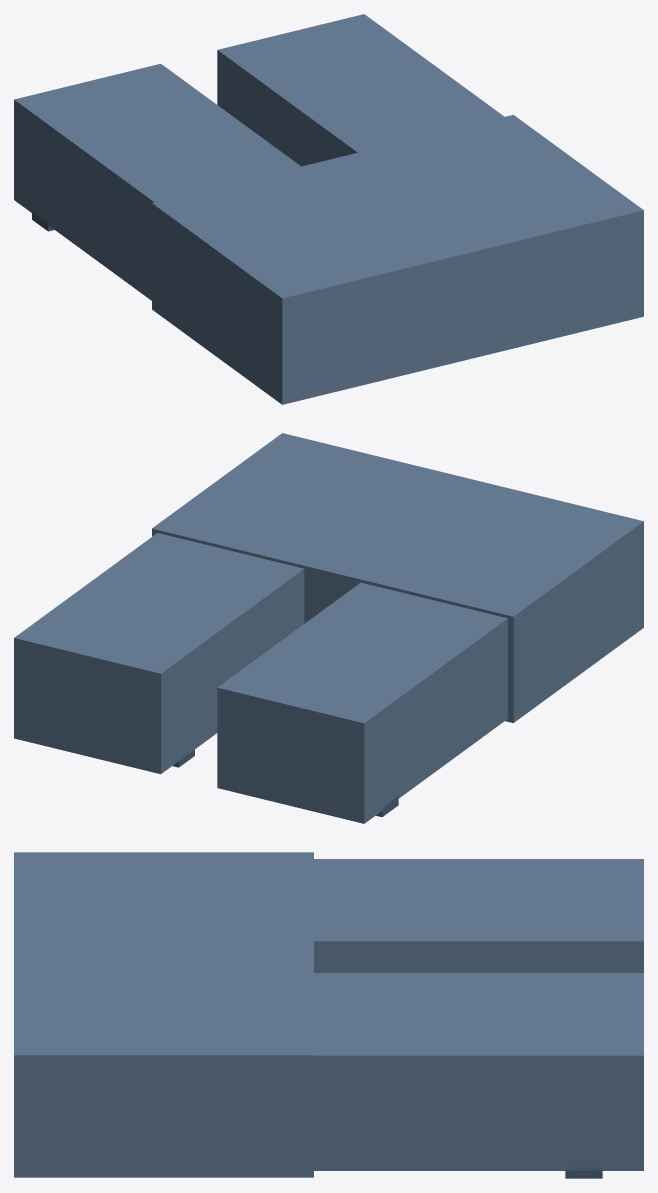
The model's file is jeans.glb.
3 renders of one model, top to bottom at view 1: azimuth 30°, elevation 25°; view 2: azimuth 150°, elevation 25°; view 3: azimuth 270°, elevation 25°, orthographic. The views are drawn at different scales.
Parts seen in each view (by area): view 1: 00_waist, 01_left_leg, 02_right_leg; view 2: 00_waist, 01_left_leg, 02_right_leg; view 3: 00_waist, 02_right_leg, 01_left_leg.
Part boxes in pixels (<box>): 00_waist: <box>152,115,643,404</box>; 01_left_leg: <box>14,63,300,300</box>; 02_right_leg: <box>217,14,504,166</box>; 00_waist: <box>152,433,643,722</box>; 01_left_leg: <box>217,582,507,823</box>; 02_right_leg: <box>14,533,304,774</box>; 00_waist: <box>14,852,313,1177</box>; 02_right_leg: <box>314,973,643,1170</box>; 01_left_leg: <box>314,859,643,972</box>.
Size of the model in its own units: 0.32 by 0.101 by 0.42.
